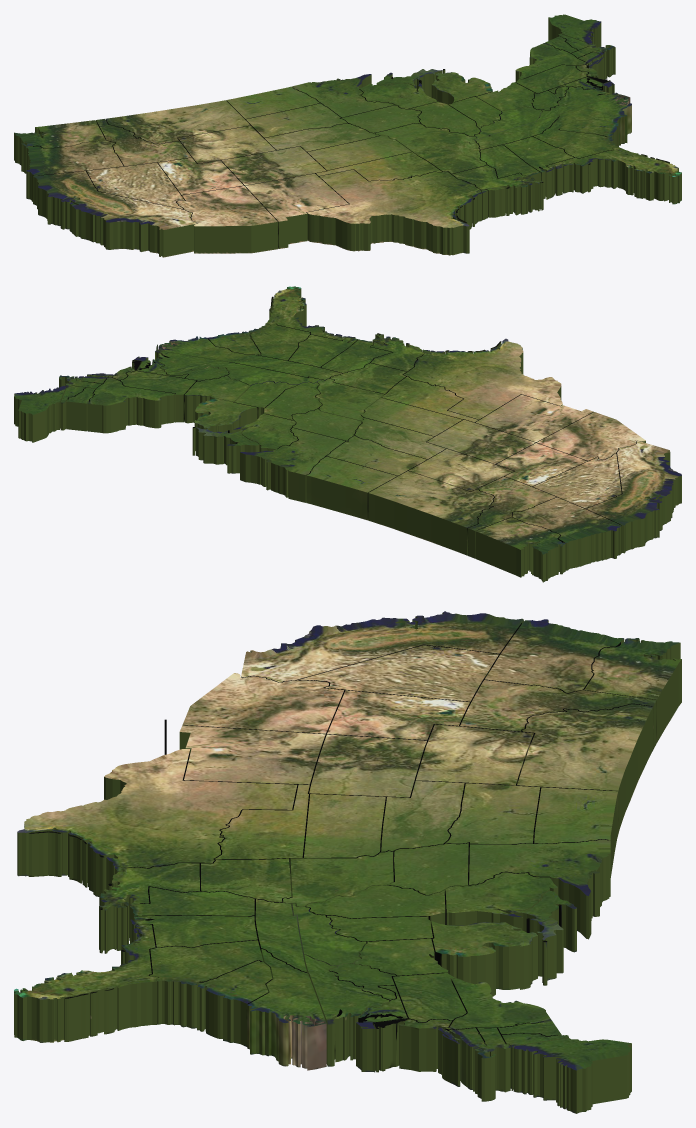
Rendered from usa.glb.
3 views of the same model, one above another, from view 1: azimuth 30°, elevation 25°; view 2: azimuth 150°, elevation 25°; view 3: azimuth 270°, elevation 25° (orthographic). The views are drawn at different scales.
Visible parts, largest first — view 1: map_of_usa1_1; view 2: map_of_usa1_1; view 3: map_of_usa1_1.
Boxes of the visible parts, x1=… form: map_of_usa1_1: x1=14, y1=14, x2=681, y2=257; map_of_usa1_1: x1=14, y1=286, x2=681, y2=582; map_of_usa1_1: x1=14, y1=611, x2=681, y2=1113.
Bounding box in the file's own units: 68.59 × 3.01 × 42.13.
1 material, 1 textured.
